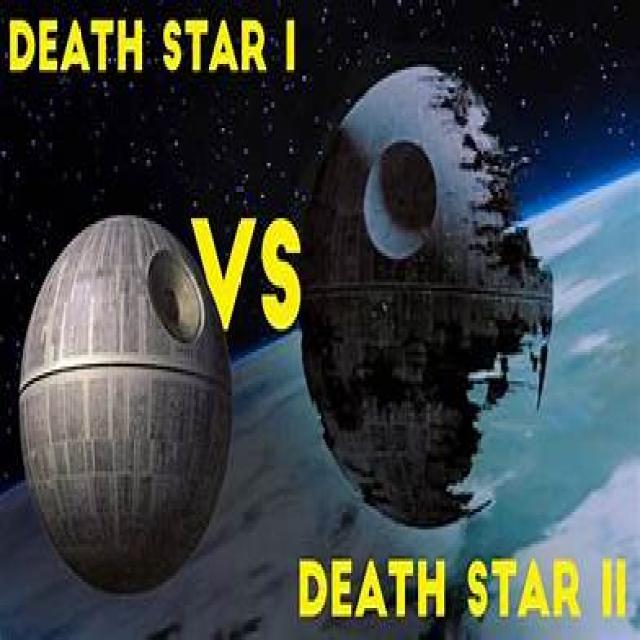deathStar: (299, 64, 556, 531), (20, 215, 237, 599)
